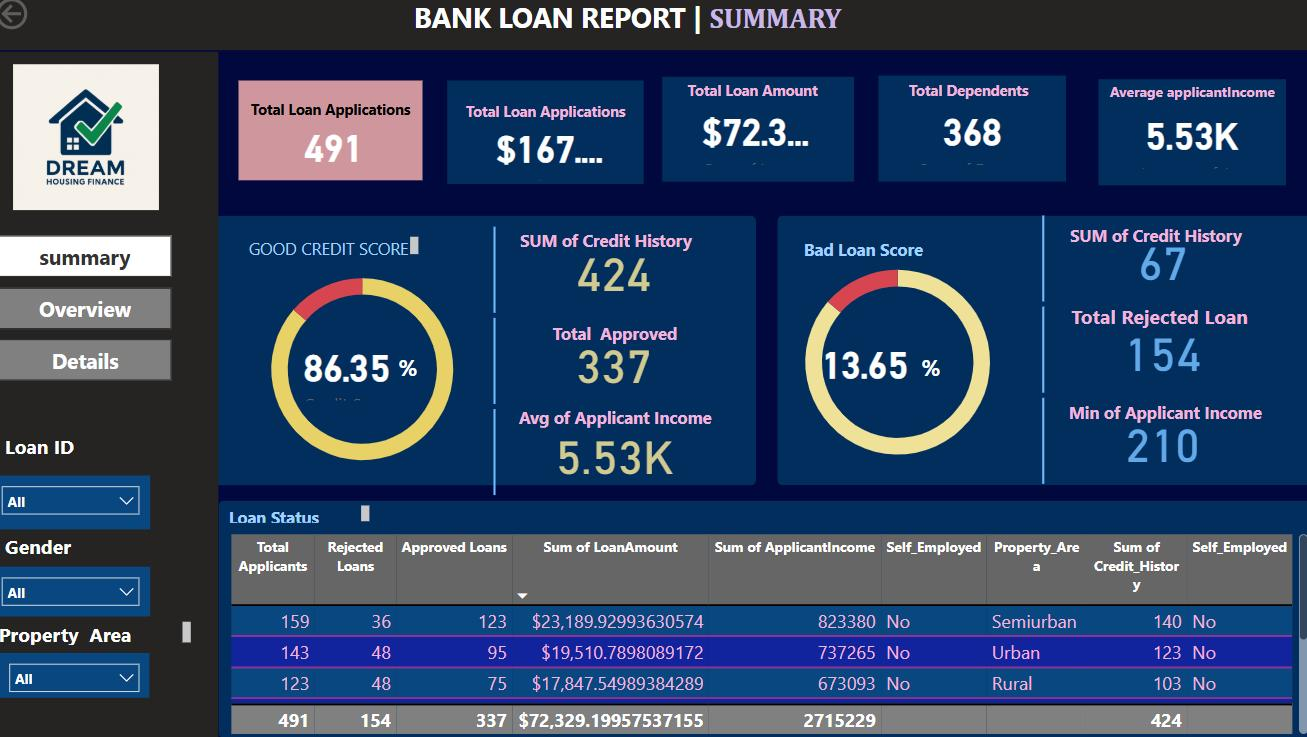

The dashboard page shown, as its layout file describes it:
{"tool":"powerbi","page":{"name":"summary","canvas":[1280,720],"ordinal":0},"visuals":[{"type":"shape","box":[216,214.7,522.4,260.6],"z":0},{"type":"shape","box":[0,0,1280,55.5],"z":1000},{"type":"shape","box":[1.2,56.4,218.4,663.5],"z":2000},{"type":"shape","box":[857.1,79.6,181.2,102.5],"z":2000,"group":"g4"},{"type":"shape","box":[648.2,80.7,185.2,101.3],"z":2000,"group":"g3"},{"type":"shape","box":[1069.4,83.2,181.2,102.5],"z":2000,"group":"g5"},{"type":"shape","box":[238.8,84.5,177.9,96.5],"z":2000,"group":"g1"},{"type":"shape","box":[440.3,84.5,189.9,100.1],"z":2000,"group":"g2"},{"type":"textbox","box":[403,0,507.9,63.9],"z":3000},{"type":"card","fields":{"Values":["Sum(cl_train_loan_eligibility.LoanAmount)"]},"box":[678.4,114.2,120.1,56.4],"z":3000,"group":"g3"},{"type":"card","fields":{"Values":["Sum(cl_train_loan_eligibility.Dependents)"]},"box":[888.6,114.7,116.3,56.4],"z":3000,"group":"g4"},{"type":"card","fields":{"Values":["Avg(cl_train_loan_eligibility.ApplicantIncome)"]},"box":[1100.9,118.3,116.3,56.4],"z":3000,"group":"g5"},{"type":"card","fields":{"Values":["cl_train_loan_eligibility.Total Loan Application"]},"box":[269.8,131.8,121.3,53.1],"z":3000,"group":"g1"},{"type":"card","fields":{"Values":["Sum(cl_train_loan_eligibility.Loan_Amount_Term)"]},"box":[473.7,133.1,130.2,53.1],"z":3000,"group":"g2"},{"type":"group","id":"g1","title":"Group 1","box":[237.1,84.5,179.8,100.4],"z":4000},{"type":"card","fields":{"Values":["cl_train_loan_eligibility.Credit Score %"]},"box":[295.6,341.4,96.5,56.7],"z":5000},{"type":"group","id":"g2","title":"Group 1","box":[437.9,84.5,194.2,101.3],"z":6000},{"type":"donutChart","fields":{"Y":["cl_train_loan_eligibility.Total Loan Application"],"Category":["cl_train_loan_eligibility.Credit_History"]},"box":[233.7,248.8,249,229.6],"z":7000},{"type":"group","id":"g3","title":"Group 1","box":[645.4,79.6,188.2,102.5],"z":8000},{"type":"textbox","box":[645.4,79.6,179.2,34.6],"z":9000,"group":"g3"},{"type":"group","id":"g4","title":"Group 1","box":[856.6,79.6,181,102.5],"z":9000},{"type":"textbox","box":[856.6,80,173.5,34.6],"z":9000,"group":"g4"},{"type":"textbox","box":[1069,80.5,181,37.4],"z":9000,"group":"g5"},{"type":"textbox","box":[237.1,97.2,179.8,33.8],"z":9000,"group":"g1"},{"type":"textbox","box":[437.9,100.5,194.2,32.6],"z":9000,"group":"g2"},{"type":"group","id":"g5","title":"Group 1","box":[1069,80.5,181.6,105.3],"z":10000},{"type":"textbox","box":[376.4,341.4,51.9,48.3],"z":11000},{"type":"textbox","box":[243.7,230.4,173.7,37.4],"z":12000},{"type":"actionButton","box":[0,0,100,40],"z":13000},{"type":"textbox","box":[536.9,312.5,171.3,32.6],"z":14000},{"type":"shape","box":[758.9,214.7,521.2,260.6],"z":15000},{"type":"cardVisual","fields":{"Data":["cl_train_loan_eligibility.Bad Credit History","cl_train_loan_eligibility.Rejected Loans","Min(cl_train_loan_eligibility.ApplicantIncome)"]},"box":[1009.8,209.9,242.5,269],"z":16000,"group":"g7"},{"type":"cardVisual","fields":{"Data":["Sum(cl_train_loan_eligibility.Credit_History)","cl_train_loan_eligibility.Approved Loans","Avg(cl_train_loan_eligibility.ApplicantIncome)"]},"box":[480.2,220.8,242.5,269],"z":16000,"group":"g6"},{"type":"donutChart","fields":{"Y":["cl_train_loan_eligibility.Total Loan Application"],"Category":["cl_train_loan_eligibility.Credit_History"]},"box":[758.9,234,232.8,244.9],"z":16000},{"type":"textbox","box":[1036.2,218.1,200.1,31.3],"z":17000,"group":"g7"},{"type":"group","id":"g6","title":"Group 2","box":[480.2,220.8,264.2,269],"z":17000},{"type":"textbox","box":[505.8,223.6,200.1,31.3],"z":17000,"group":"g6"},{"type":"textbox","box":[779.4,231.6,154.4,37.4],"z":18000},{"type":"card","fields":{"Values":["cl_train_loan_eligibility.Bad Credit Score %"]},"box":[779.4,310.1,129.1,92.9],"z":19000},{"type":"textbox","box":[1035,387.9,240.3,31.3],"z":19000,"group":"g7"},{"type":"textbox","box":[504.6,393.4,240.3,31.3],"z":19000,"group":"g6"},{"type":"textbox","box":[892.8,341.4,31.4,39.8],"z":20000},{"type":"group","id":"g7","title":"Group 2","box":[1009.8,209.9,265.4,269],"z":21000},{"type":"textbox","box":[1037.5,294.4,189.4,50.7],"z":22000},{"type":"shape","box":[219.6,489.8,1060.5,229.2],"z":23000},{"type":"tableEx","fields":{"Values":["cl_train_loan_eligibility.Total Applicants","cl_train_loan_eligibility.Rejected Loans","cl_train_loan_eligibility.Approved Loans","Sum(cl_train_loan_eligibility.LoanAmount)","Sum(cl_train_loan_eligibility.ApplicantIncome)","cl_train_loan_eligibility.Self_Employed","cl_train_loan_eligibility.Property_Area","Sum(cl_train_loan_eligibility.Credit_History)","cl_train_loan_eligibility.Self_Employed"]},"box":[225.6,517.6,1050.8,202.7],"z":24000},{"type":"textbox","box":[224.4,489.8,146,26.5],"z":25000},{"type":"slicer","fields":{"Values":["cl_train_loan_eligibility.Loan_ID"]},"box":[0,465.7,153.2,51.9],"z":26000},{"type":"textbox","box":[8.4,419.8,95.3,35],"z":27000},{"type":"slicer","fields":{"Values":["cl_train_loan_eligibility.Loan_ID"]},"box":[0,553.8,153.2,48.3],"z":28000},{"type":"textbox","box":[8.4,516.4,91.7,47.1],"z":29000},{"type":"slicer","fields":{"Values":["cl_train_loan_eligibility.Property_Area"]},"box":[7.2,637,146,43.4],"z":30000},{"type":"textbox","box":[2.4,602,195.4,32.6],"z":31000},{"type":"image","box":[15.7,63.9,152,150.8],"z":31001},{"type":"pageNavigator","box":[7.2,234,167.7,142.4],"z":31002}]}

Visuals, with their boxes on the page's 1280x720 design canvas (x1, y1, x2, y2). These are canvas units, not pixel positions in the 1307x737 screenshot, which may show the page scaled, cropped or inside an application window:
shape: select_region(216, 215, 738, 475)
shape: select_region(0, 0, 1280, 56)
shape: select_region(1, 56, 220, 720)
shape: select_region(857, 80, 1038, 182)
shape: select_region(648, 81, 833, 182)
shape: select_region(1069, 83, 1251, 186)
shape: select_region(239, 84, 417, 181)
shape: select_region(440, 84, 630, 185)
textbox: select_region(403, 0, 911, 64)
card - Sum(cl_train_loan_eligibility.LoanAmount): select_region(678, 114, 798, 171)
card - Sum(cl_train_loan_eligibility.Dependents): select_region(889, 115, 1005, 171)
card - Avg(cl_train_loan_eligibility.ApplicantIncome): select_region(1101, 118, 1217, 175)
card - cl_train_loan_eligibility.Total Loan Application: select_region(270, 132, 391, 185)
card - Sum(cl_train_loan_eligibility.Loan_Amount_Term): select_region(474, 133, 604, 186)
"Group 1" group: select_region(237, 84, 417, 185)
card - cl_train_loan_eligibility.Credit Score %: select_region(296, 341, 392, 398)
"Group 1" group: select_region(438, 84, 632, 186)
donutChart - cl_train_loan_eligibility.Total Loan Application x cl_train_loan_eligibility.Credit_History: select_region(234, 249, 483, 478)
"Group 1" group: select_region(645, 80, 834, 182)
textbox: select_region(645, 80, 825, 114)
"Group 1" group: select_region(857, 80, 1038, 182)
textbox: select_region(857, 80, 1030, 115)
textbox: select_region(1069, 80, 1250, 118)
textbox: select_region(237, 97, 417, 131)
textbox: select_region(438, 100, 632, 133)
"Group 1" group: select_region(1069, 80, 1251, 186)
textbox: select_region(376, 341, 428, 390)
textbox: select_region(244, 230, 417, 268)
actionButton: select_region(0, 0, 100, 40)
textbox: select_region(537, 312, 708, 345)
shape: select_region(759, 215, 1280, 475)
cardVisual - cl_train_loan_eligibility.Bad Credit History x cl_train_loan_eligibility.Rejected Loans: select_region(1010, 210, 1252, 479)
cardVisual - Sum(cl_train_loan_eligibility.Credit_History) x cl_train_loan_eligibility.Approved Loans: select_region(480, 221, 723, 490)
donutChart - cl_train_loan_eligibility.Total Loan Application x cl_train_loan_eligibility.Credit_History: select_region(759, 234, 992, 479)
textbox: select_region(1036, 218, 1236, 249)
"Group 2" group: select_region(480, 221, 744, 490)
textbox: select_region(506, 224, 706, 255)
textbox: select_region(779, 232, 934, 269)
card - cl_train_loan_eligibility.Bad Credit Score %: select_region(779, 310, 908, 403)
textbox: select_region(1035, 388, 1275, 419)
textbox: select_region(505, 393, 745, 425)
textbox: select_region(893, 341, 924, 381)
"Group 2" group: select_region(1010, 210, 1275, 479)
textbox: select_region(1038, 294, 1227, 345)
shape: select_region(220, 490, 1280, 719)
tableEx - cl_train_loan_eligibility.Total Applicants x cl_train_loan_eligibility.Rejected Loans: select_region(226, 518, 1276, 720)
textbox: select_region(224, 490, 370, 516)
slicer - cl_train_loan_eligibility.Loan_ID: select_region(0, 466, 153, 518)
textbox: select_region(8, 420, 104, 455)
slicer - cl_train_loan_eligibility.Loan_ID: select_region(0, 554, 153, 602)
textbox: select_region(8, 516, 100, 564)
slicer - cl_train_loan_eligibility.Property_Area: select_region(7, 637, 153, 680)
textbox: select_region(2, 602, 198, 635)
image: select_region(16, 64, 168, 215)
pageNavigator: select_region(7, 234, 175, 376)
